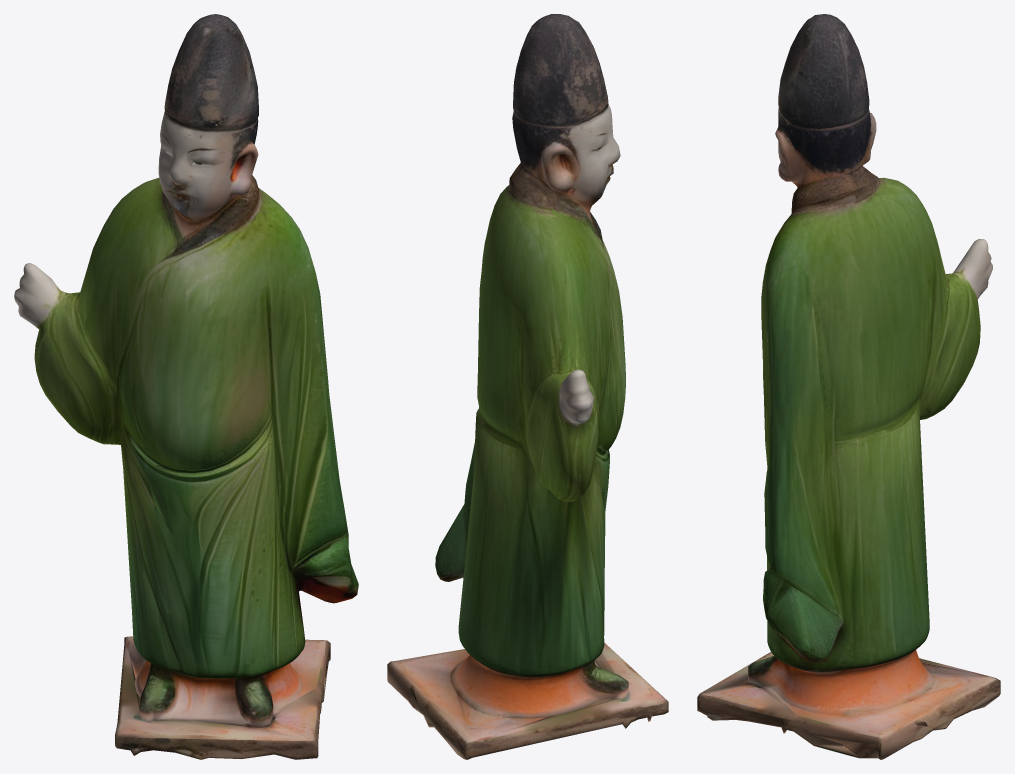
The model's file is guang.glb.
3 views of the same model, side by side, from view 1: azimuth 30°, elevation 25°; view 2: azimuth 150°, elevation 25°; view 3: azimuth 270°, elevation 25° (orthographic). The views are drawn at different scales.
Parts seen in each view (by area): view 1: material; view 2: material; view 3: material.
Part boxes in pixels (x1,y1,x2,y2): material: [14, 14, 358, 759]; material: [387, 14, 668, 759]; material: [697, 14, 1000, 759].
Bounding box in the file's own units: 0.7381 × 1.9 × 0.7674.
Materials: 1 (1 with a texture image).
